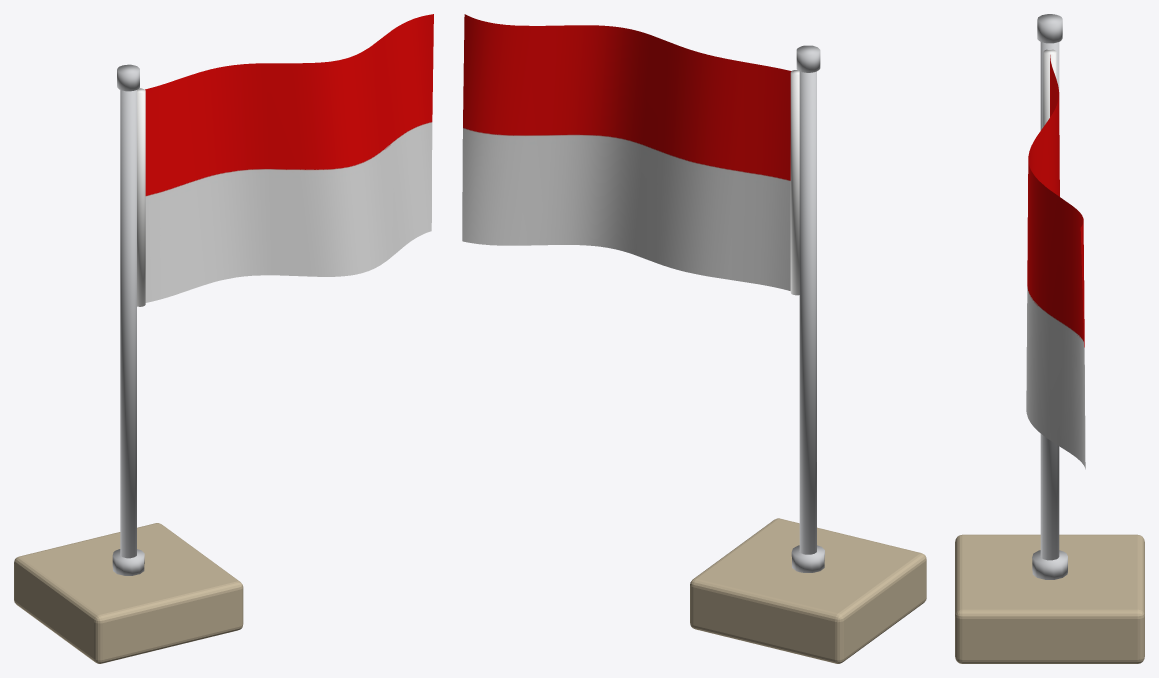
Rendered from upm_mv3pr88s21a.glb.
The picture shows the model from 3 angles, left to right: view 1: azimuth 30°, elevation 25°; view 2: azimuth 150°, elevation 25°; view 3: azimuth 270°, elevation 25°; orthographic projection. The views are drawn at different scales.
Parts seen in each view (by area): view 1: flag, Cube, Cylinder, Cylinder.003; view 2: flag, Cube, Cylinder, Cylinder.003; view 3: Cube, flag, Cylinder, Cylinder.003.
Part boxes in pixels (x1,y1,x2,y2): flag: (145, 14, 433, 302); Cube: (14, 523, 243, 663); Cylinder: (112, 64, 144, 575); Cylinder.003: (137, 88, 145, 306); flag: (462, 14, 791, 290); Cube: (690, 518, 926, 663); Cylinder: (791, 45, 824, 572); Cylinder.003: (790, 70, 799, 295); Cube: (955, 534, 1144, 663); flag: (1026, 55, 1085, 469); Cylinder: (1032, 14, 1067, 579); Cylinder.003: (1043, 49, 1056, 126).
Size of the model in its own units: 0.8483 by 1.13 by 0.32.
4 materials, 1 textured.
